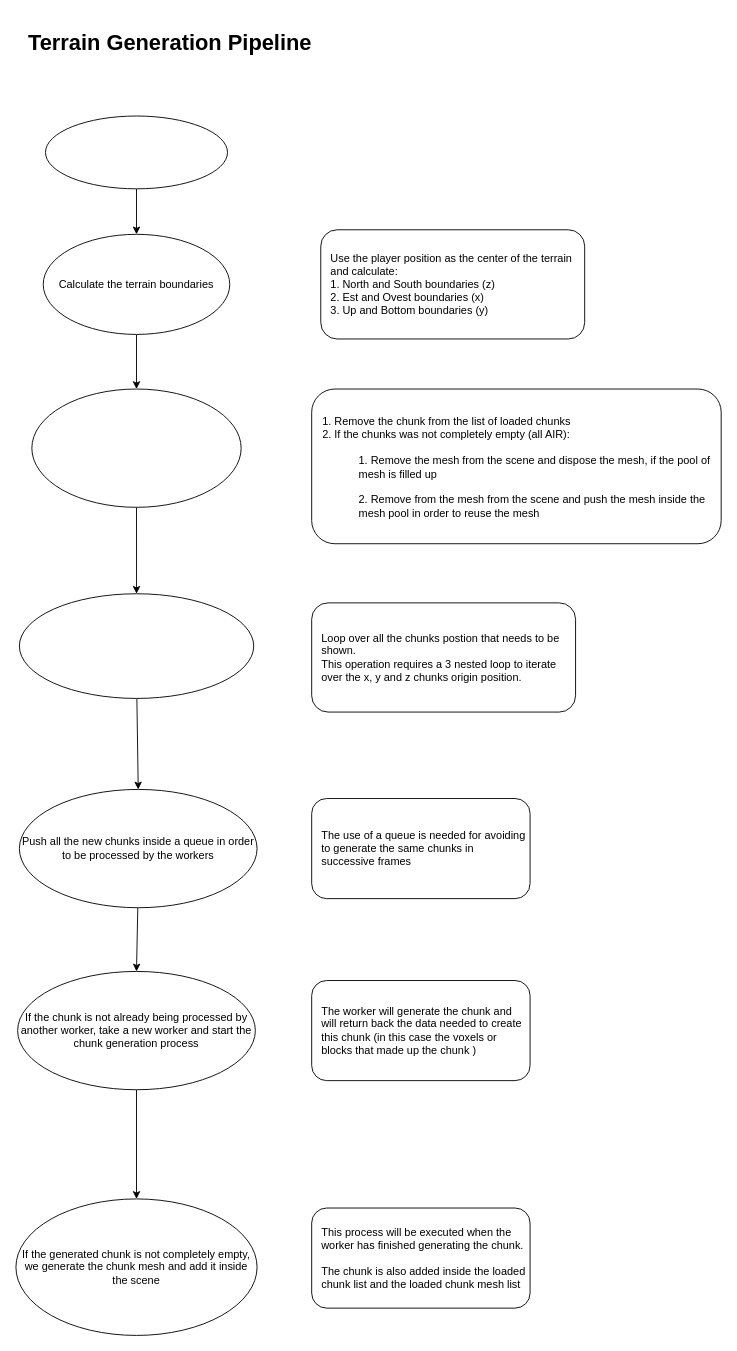
Some shapes in this 737 by 1351 pixel diagram are drawn without their labels. Here are the shapes that lost their labels. From the top down, the box of each, then its label:
(45, 115, 228, 189): Get Player Current Position
(31, 388, 241, 507): Remove/Unload all the chunks that are out of the boundaries
(18, 593, 254, 698): Detect the chunks that needs to be loaded
